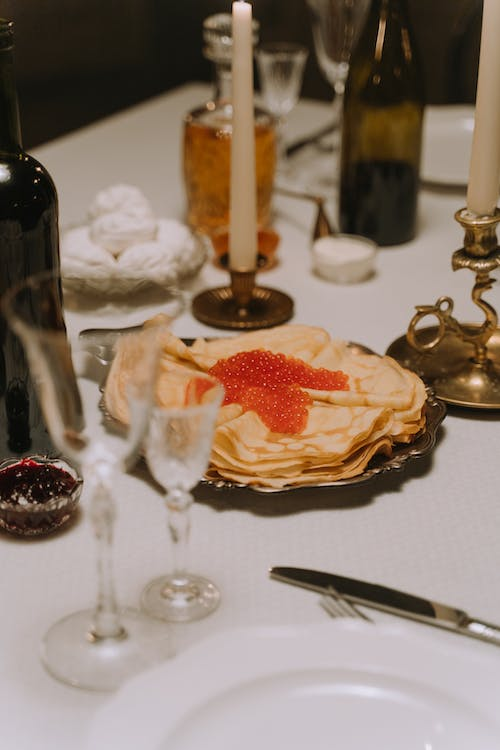alcohol: (0, 13, 67, 461), (335, 0, 429, 249)
knife: (267, 562, 500, 647)
